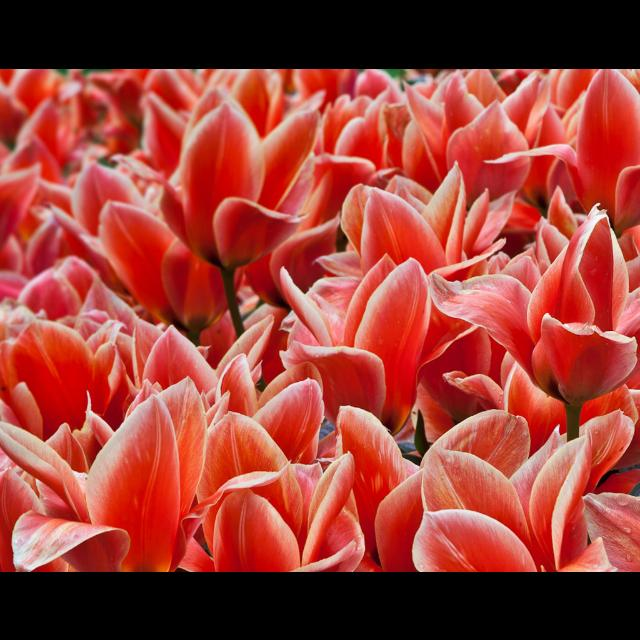Flower: (1, 68, 640, 570), (487, 68, 639, 234)
